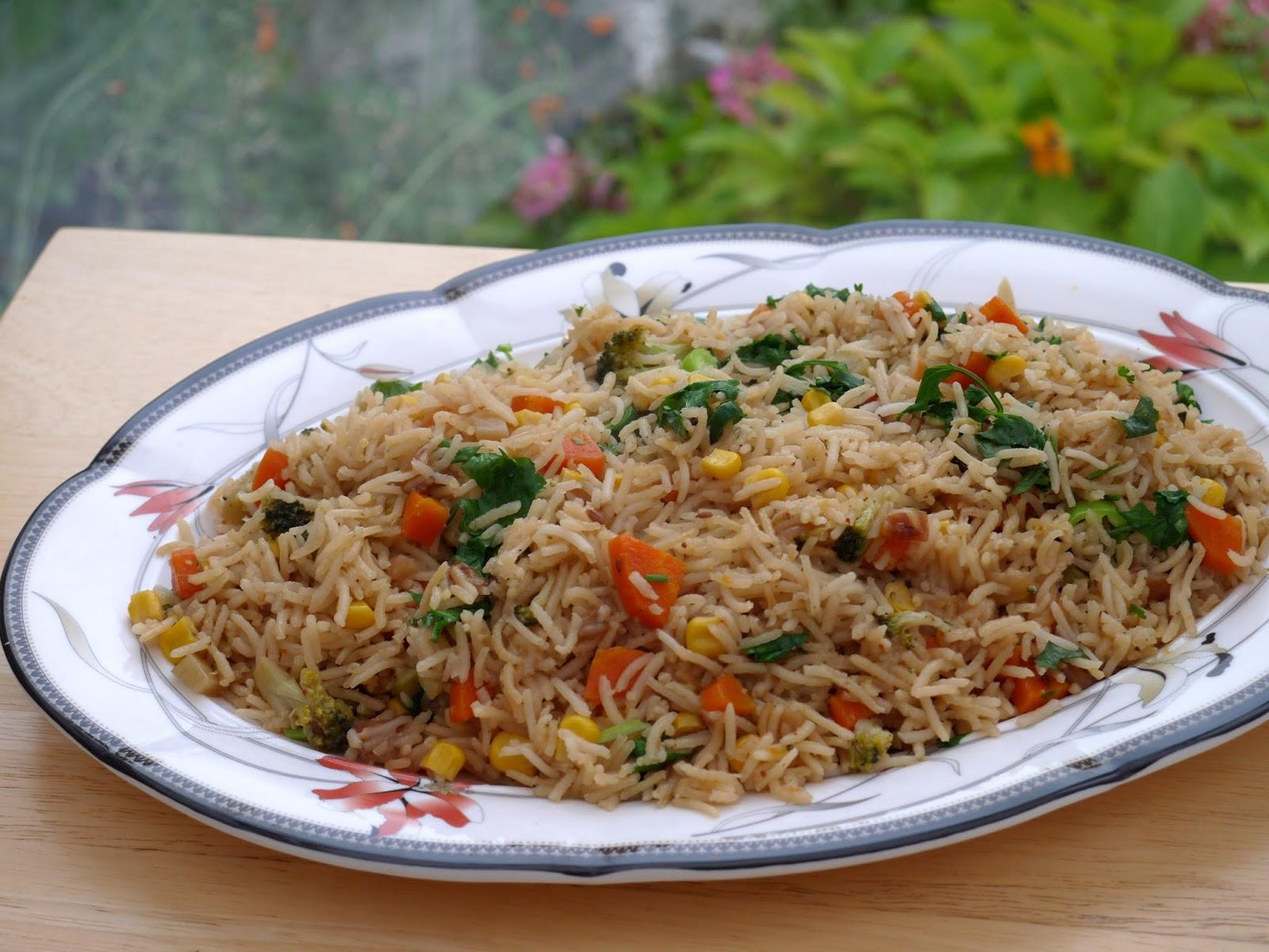veg-pulao: (239, 334, 1213, 725)
